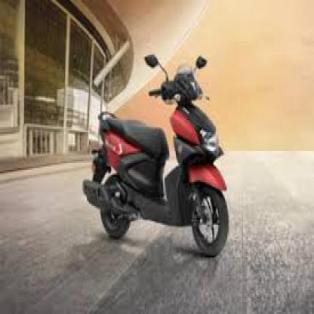Motocicleta: (77, 40, 234, 262)
